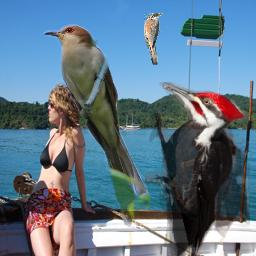Cuckoo: (43, 24, 150, 227), (144, 13, 163, 65)
Woodpecker: (145, 82, 250, 256)
